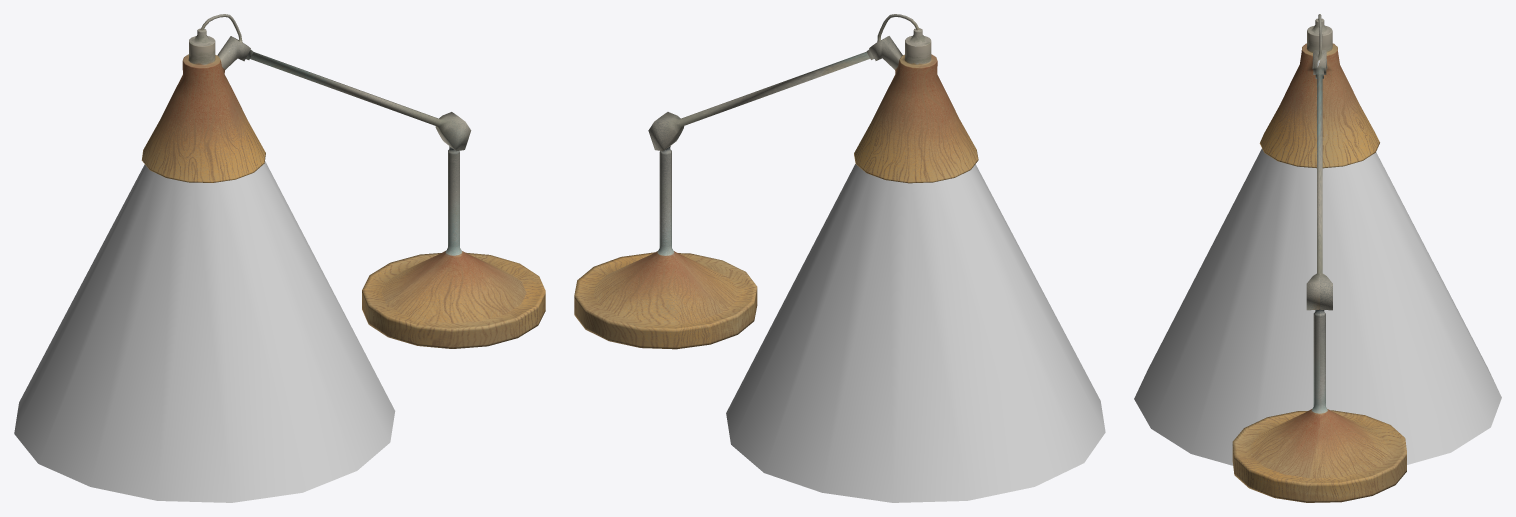
The model's file is Desk_Lamp.fbx.
3 views of the same model, side by side, from view 1: azimuth 30°, elevation 25°; view 2: azimuth 150°, elevation 25°; view 3: azimuth 270°, elevation 25° (orthographic). The views are drawn at different scales.
Visible parts, largest first — view 1: Cylinder, Light_v1.1; view 2: Cylinder, Light_v1.1; view 3: Cylinder, Light_v1.1.
Boxes of the visible parts, x1,y1,x2,y2 form: Cylinder: (14, 161, 395, 502); Light_v1.1: (141, 14, 545, 348); Cylinder: (726, 164, 1105, 502); Light_v1.1: (574, 14, 978, 349); Cylinder: (1134, 148, 1501, 465); Light_v1.1: (1232, 14, 1406, 502).
Size of the model in its own units: 1038 by 808 by 695.
Materials: 3 (1 with a texture image).
